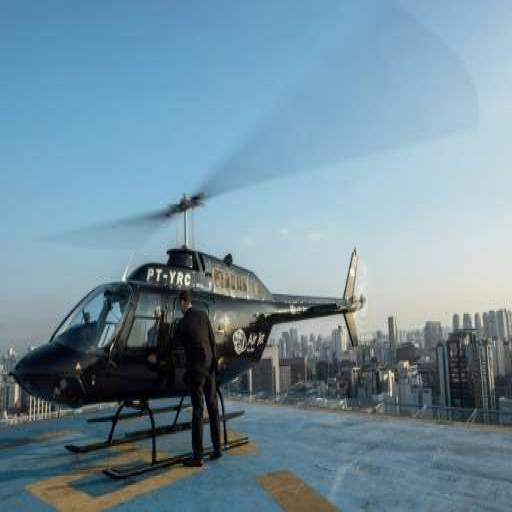helicopter: (12, 193, 371, 479)
